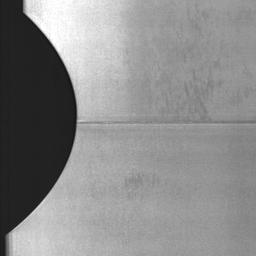Crescent gap: (7, 11, 77, 235)
